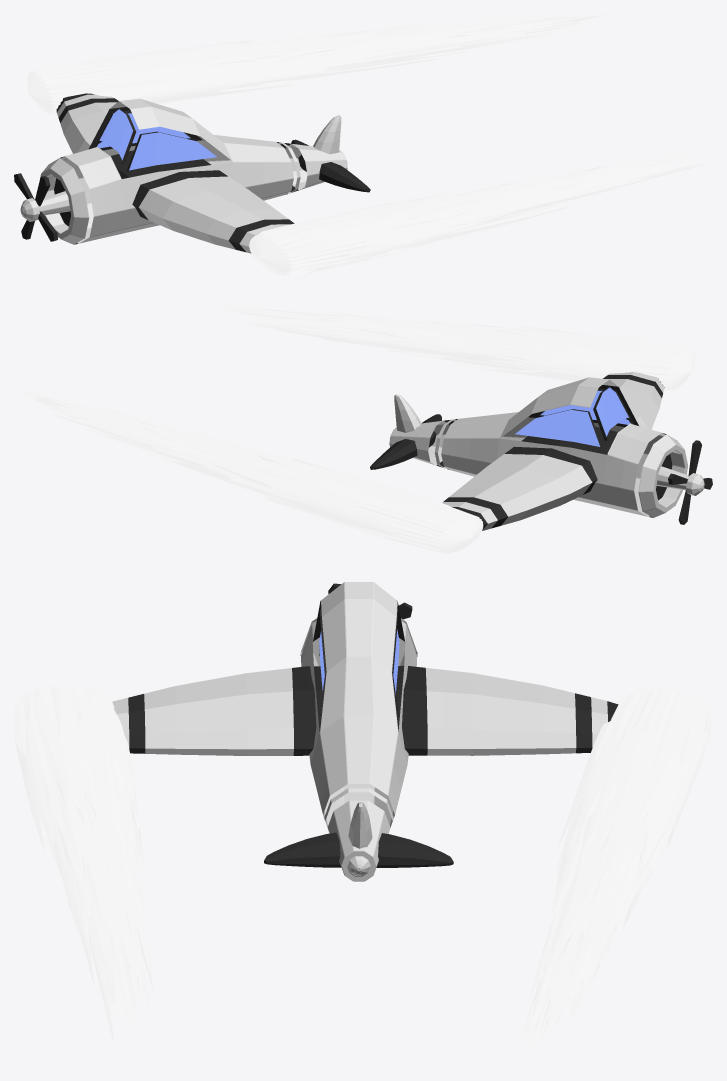
Rendered from airplane_v2.glb.
3 views of the same model, one above another, from view 1: azimuth 30°, elevation 25°; view 2: azimuth 150°, elevation 25°; view 3: azimuth 270°, elevation 25° (orthographic). The views are drawn at different scales.
Visible parts, largest first — view 1: Cylinder, body, Cylinder.001, wings, tail1, fan, tail 2; view 2: body, Cylinder, Cylinder.001, wings, tail1, fan, tail 2; view 3: wings, Cylinder, Cylinder.001, body, tail1, tail 2.
Boxes of the visible parts, <box> form: Cylinder: <box>27,14,605,114</box>; body: <box>20,98,347,244</box>; Cylinder.001: <box>249,147,712,275</box>; wings: <box>56,93,294,253</box>; tail1: <box>291,139,370,192</box>; fan: <box>14,173,57,241</box>; tail 2: <box>313,115,341,154</box>; body: <box>389,377,704,517</box>; Cylinder: <box>15,388,483,553</box>; Cylinder.001: <box>207,304,695,390</box>; wings: <box>442,372,664,530</box>; tail1: <box>370,414,441,469</box>; fan: <box>668,440,712,524</box>; tail 2: <box>394,394,421,432</box>; wings: <box>112,666,618,755</box>; Cylinder: <box>519,689,712,1065</box>; Cylinder.001: <box>14,685,153,1039</box>; body: <box>300,582,417,881</box>; tail1: <box>264,832,453,867</box>; tail 2: <box>348,802,372,848</box>.
Size of what is drawn, in the model's own units: 19.15 by 3.52 by 13.56.
